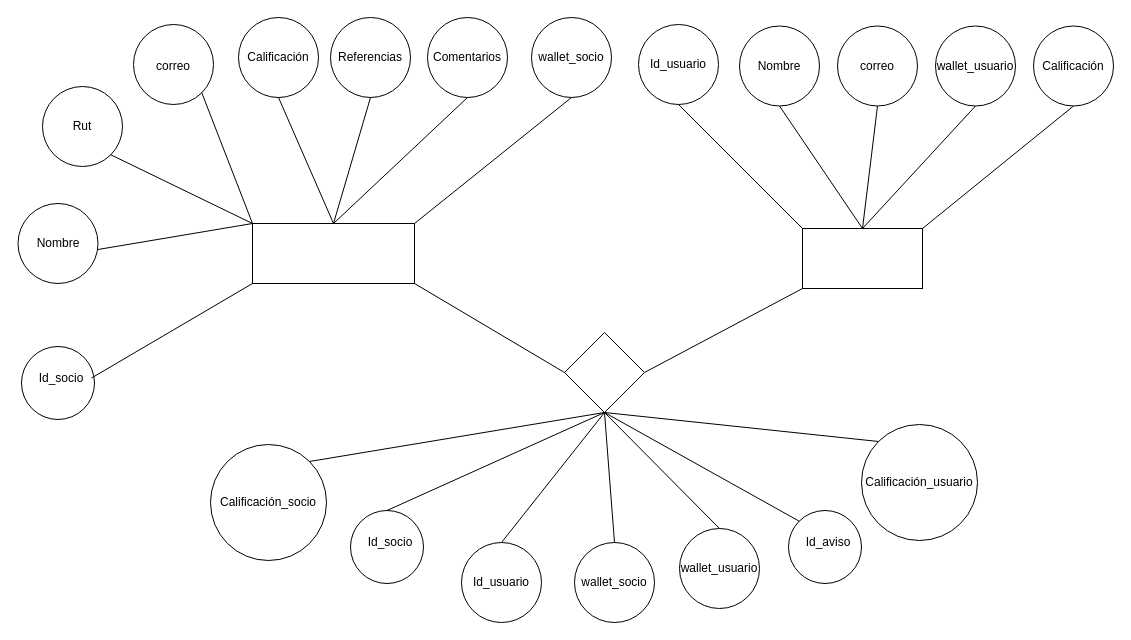
Some shapes in this 1131 by 640 pixel diagram are drawn without their labels. Each missing label, with the centre of its shape:
"Aviso" belongs at pixel 604 372.
"Socio asistente" belongs at pixel 333 253.
"Usuario" belongs at pixel 862 258.
